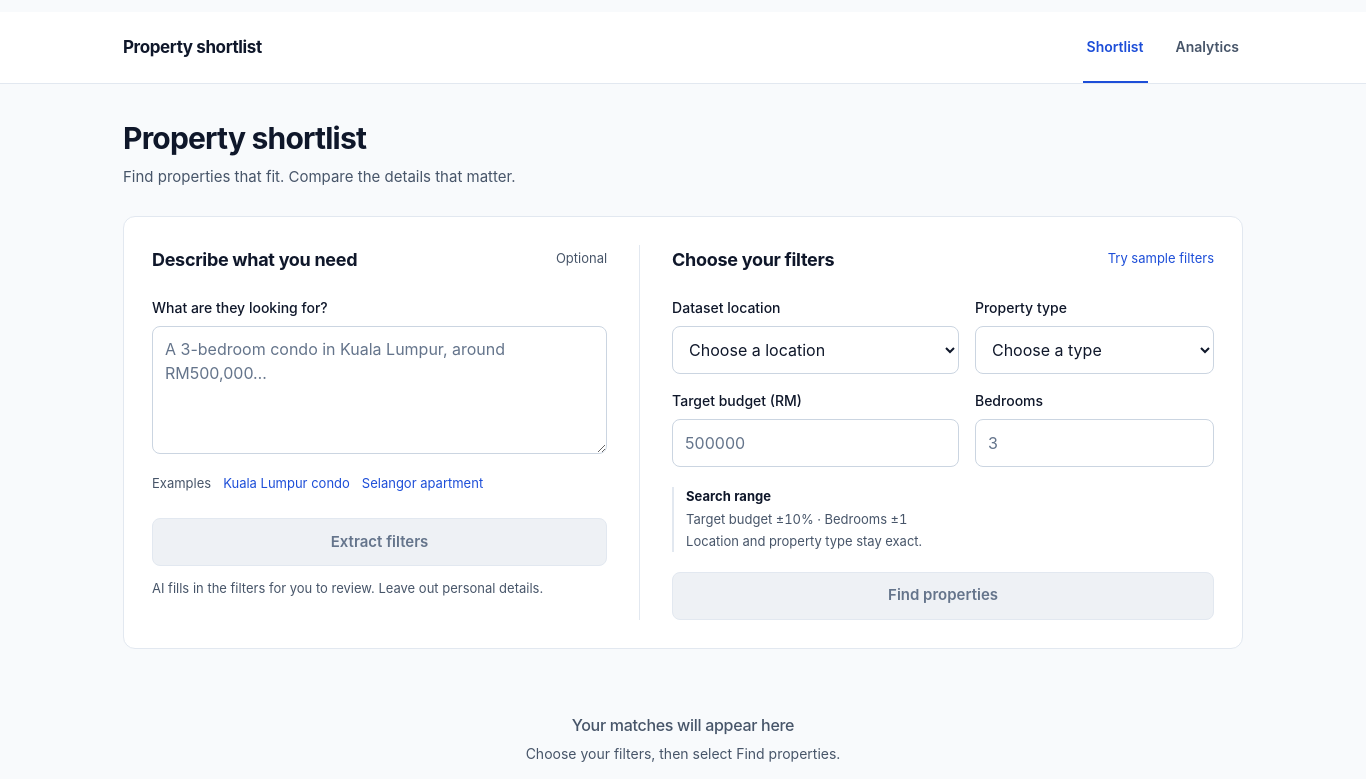
Test: extraction never searches automatically and manual edits determine the confirmed request
Click the button "Kuala Lumpur condo" at (287,484), box top-left (223, 462), bottom-right (350, 506)
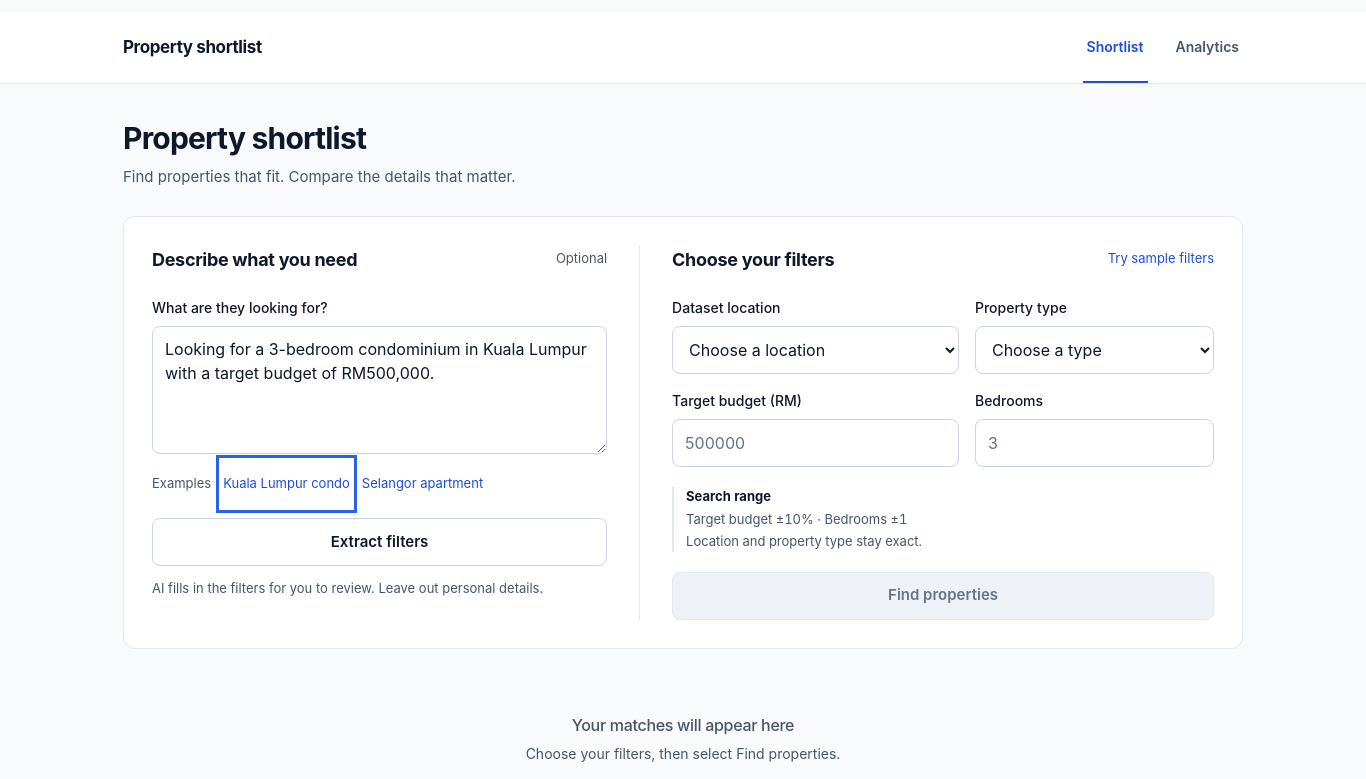
Click the button "Extract filters" at (380,542), box top-left (152, 518), bottom-right (607, 566)
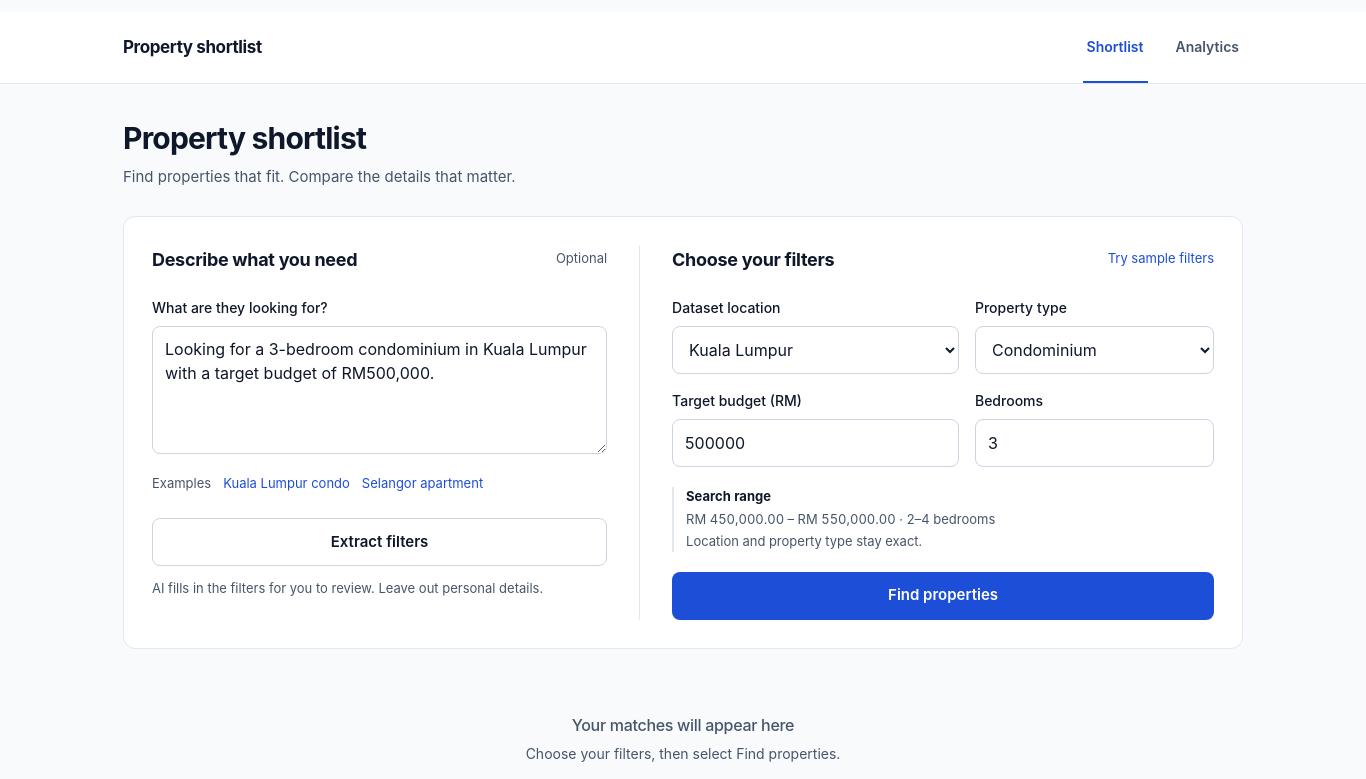
Expected: the number field labelled "Target budget (RM)" holds "500000"
Type "480000" into the number field labelled "Target budget (RM)" at (816,443), box top-left (672, 419), bottom-right (959, 467)
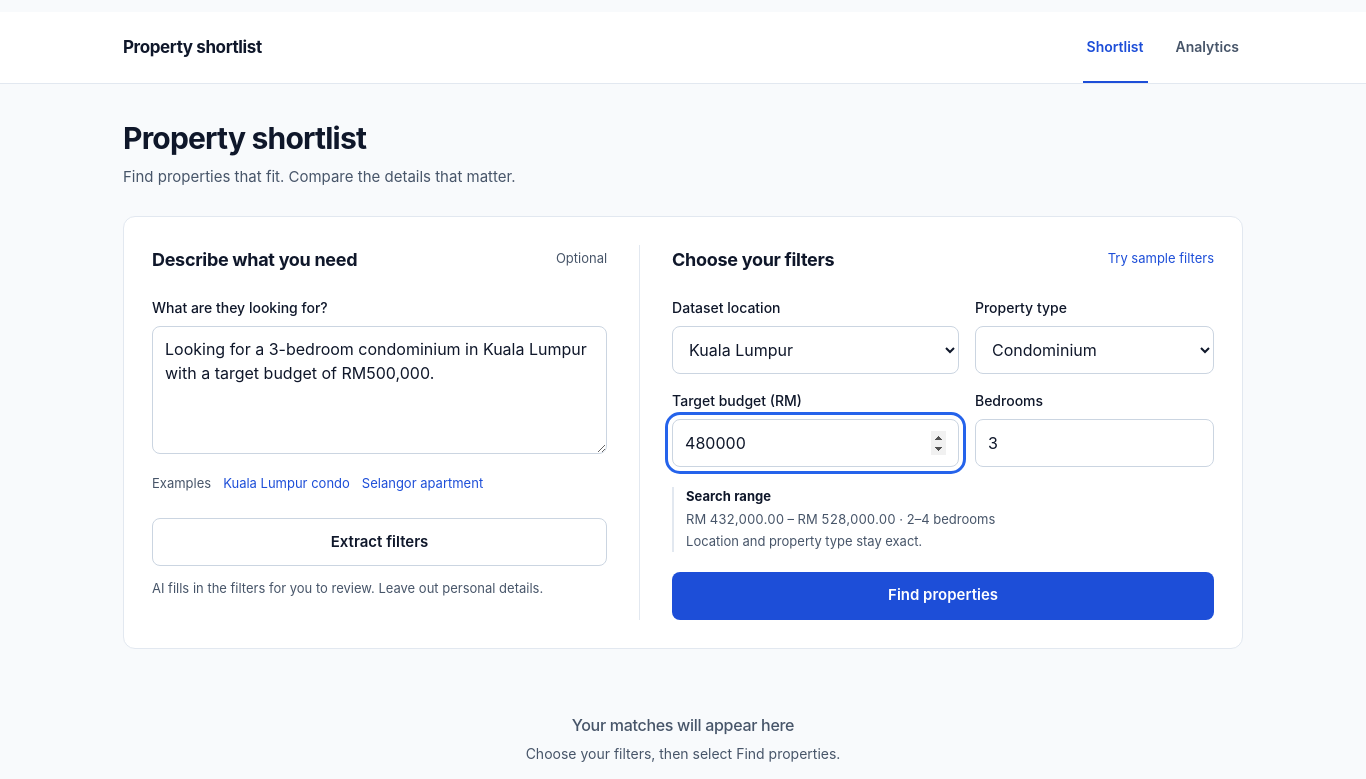
Click the button "Find properties" at (943,596), box top-left (672, 572), bottom-right (1214, 620)
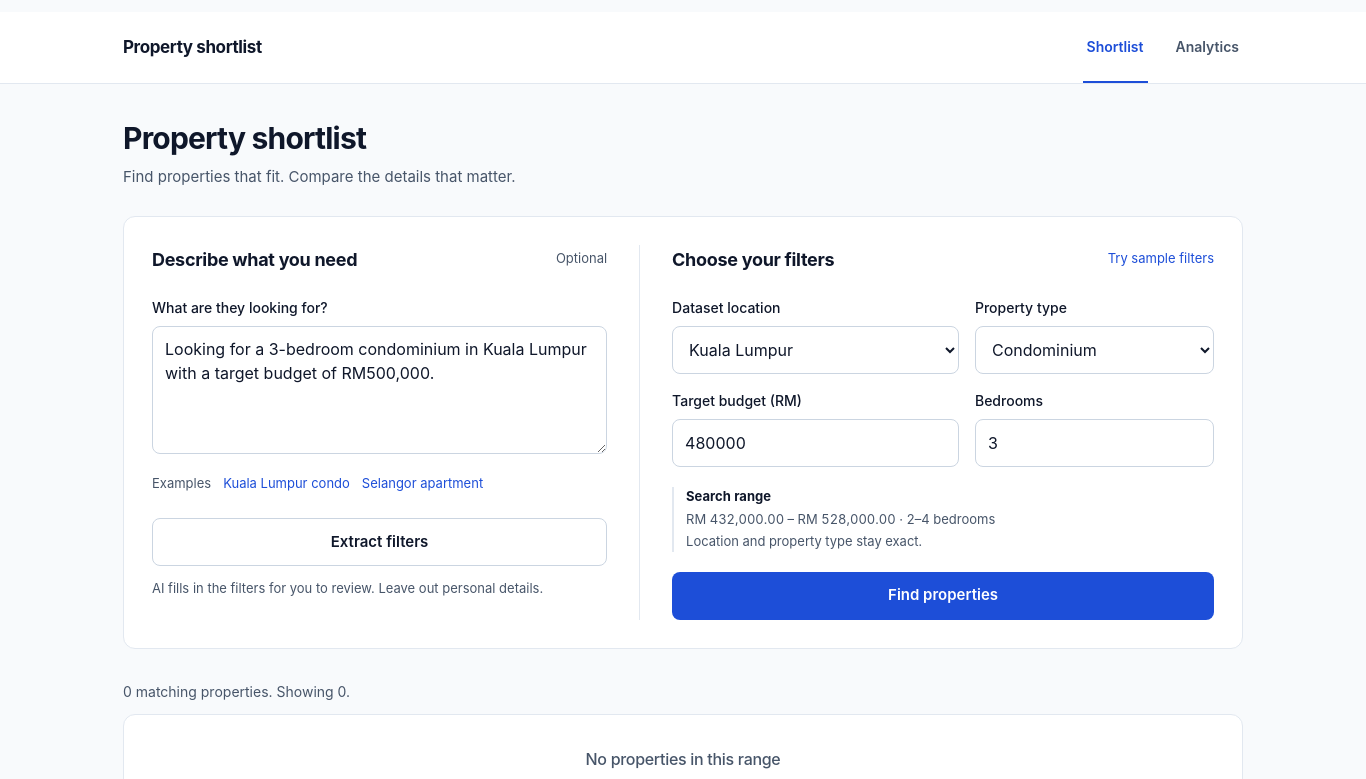
Expected: the heading "No properties in this range" is shown, top-left (586, 748), bottom-right (780, 768)
